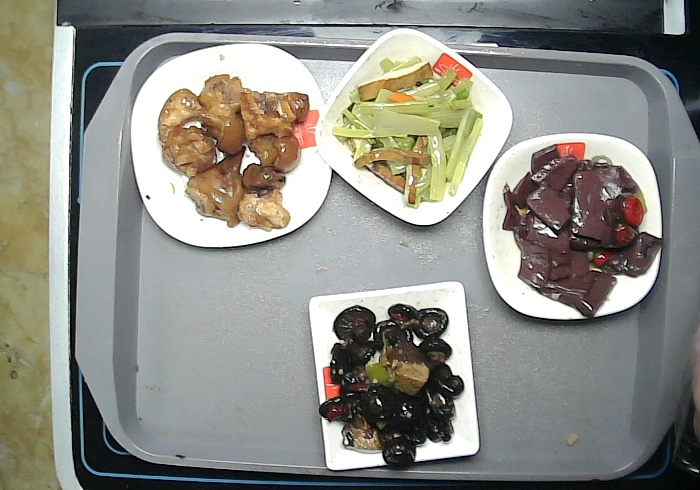SHKJ-Bai_Se_Cai_Die: (481, 132, 664, 319)
SHKJ-Bai_Se_Si_Fang_Cai_Die: (129, 42, 333, 250)
SHKJ-Bai_Se_Xiao_Fang_Die: (314, 26, 514, 226)
SHKJ-Si_Fang_Min: (307, 280, 481, 472)
